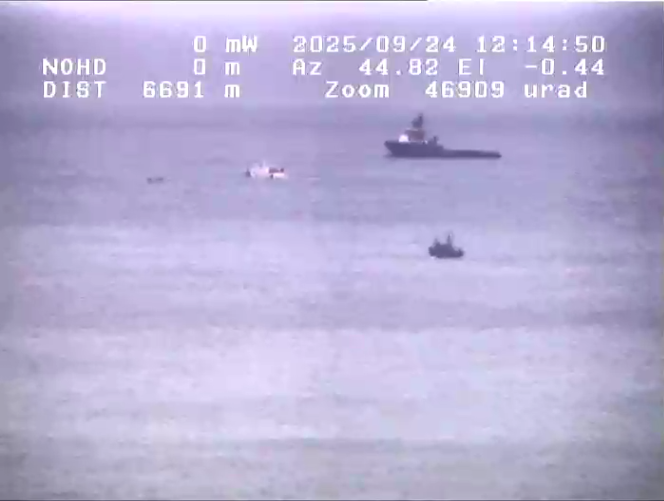OFFSHORE_SUPPLY_VESSEL: (382, 104, 519, 165)
PATROL_VESSEL: (233, 147, 298, 184)
TUGS: (418, 221, 474, 264)
